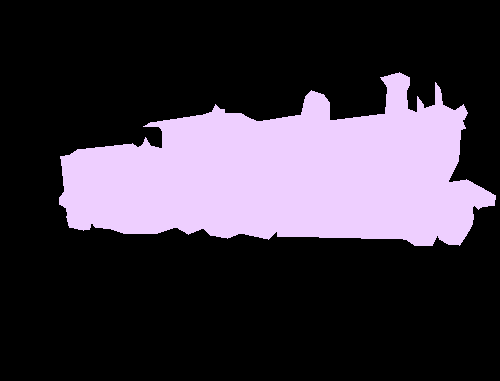Train: (59, 72, 496, 245)
